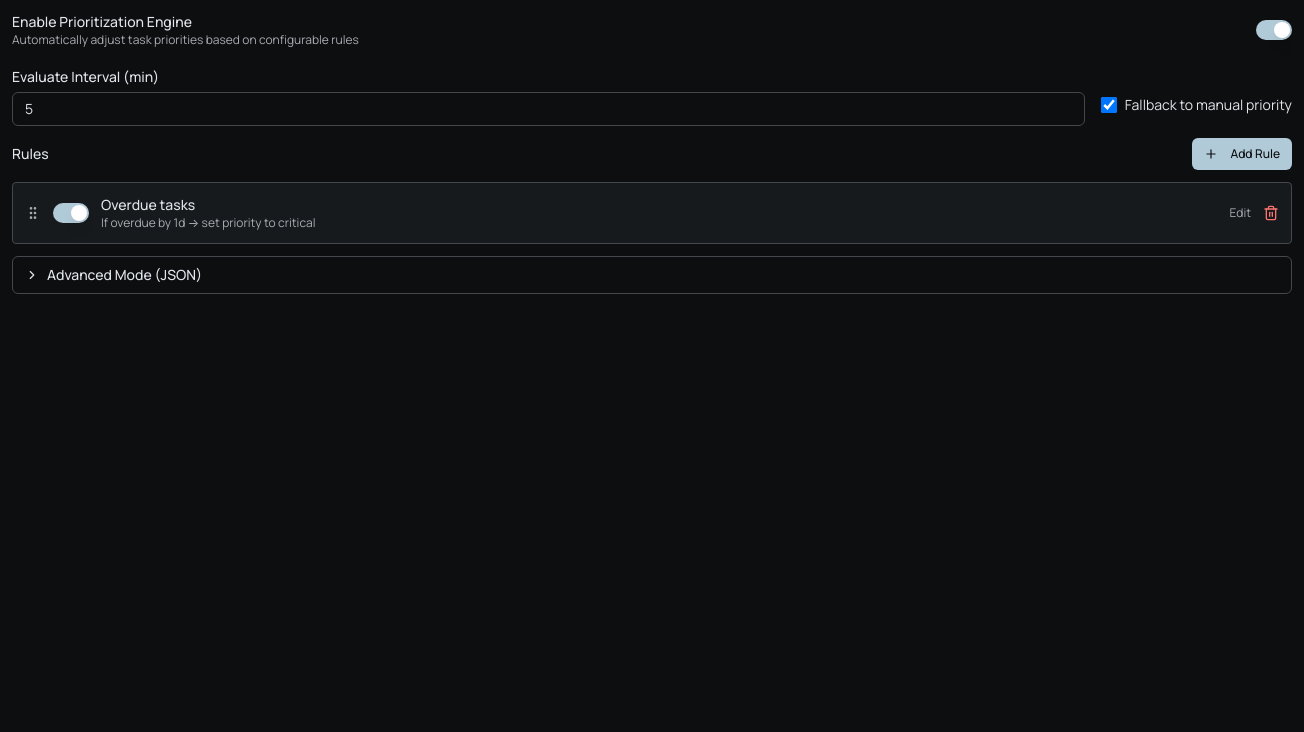
Test: PrioritizationTab › adds a new rule on Add Rule click
Click the button "Add Rule".
click(1242, 154)  # box [1192,138,1292,170]
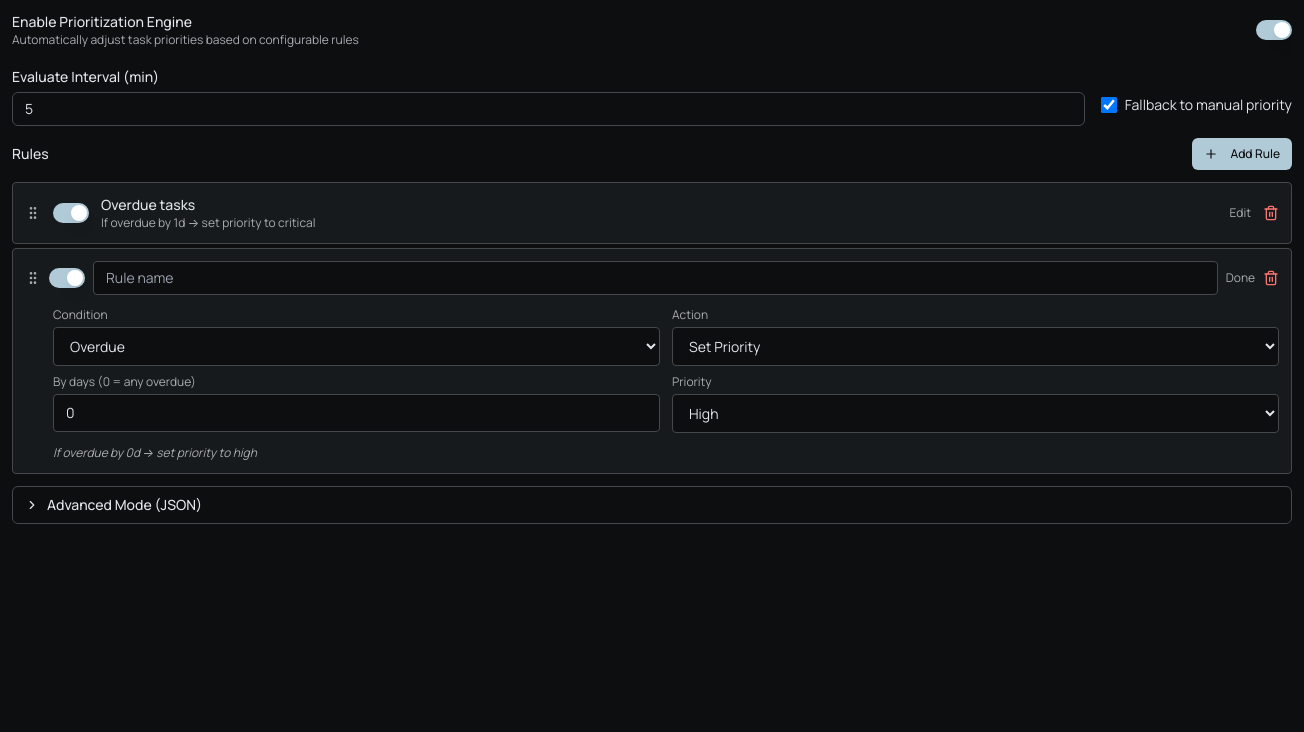
Expected: the field with placeholder "Rule name" is shown, [93,261,1218,295]
Expected: the button "Done" is shown, [1226,270,1255,286]
